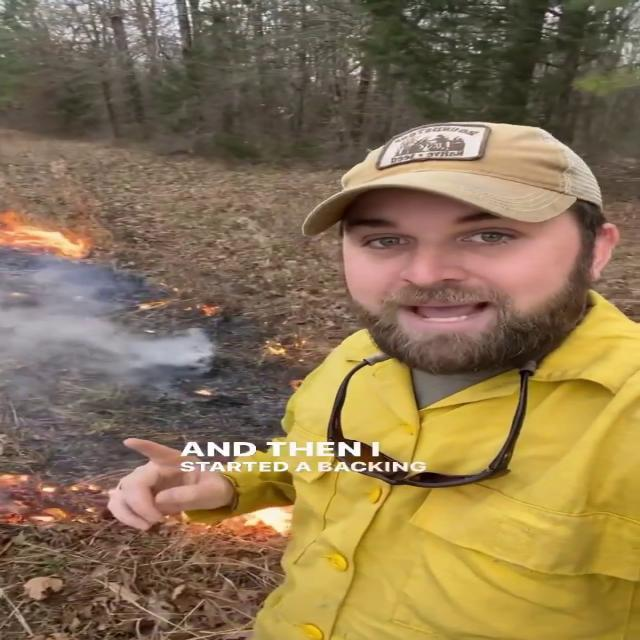Fire: (0, 468, 99, 526), (0, 203, 98, 261)
Smoke: (0, 250, 225, 399)
